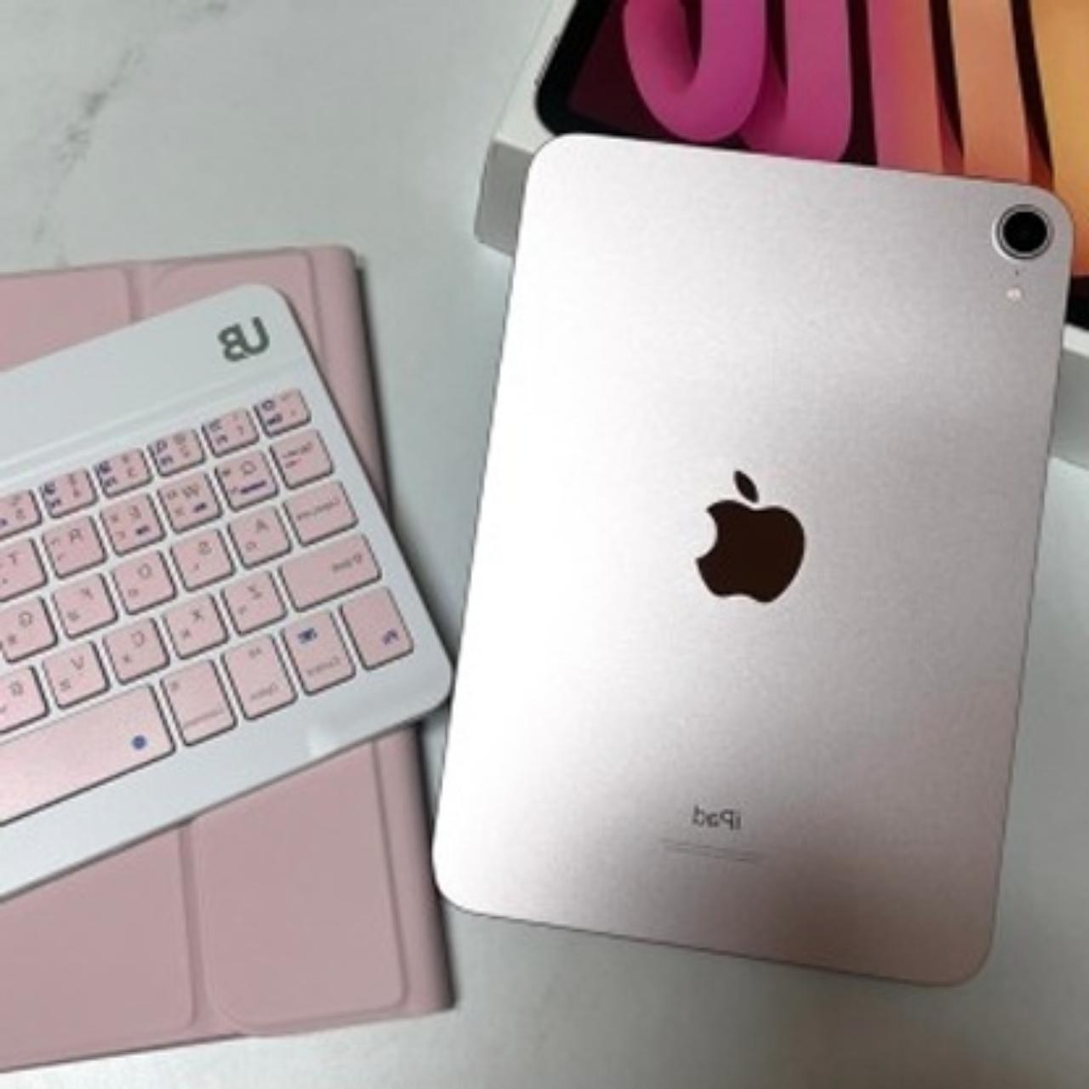Tablet_PC: (413, 123, 1075, 979)
